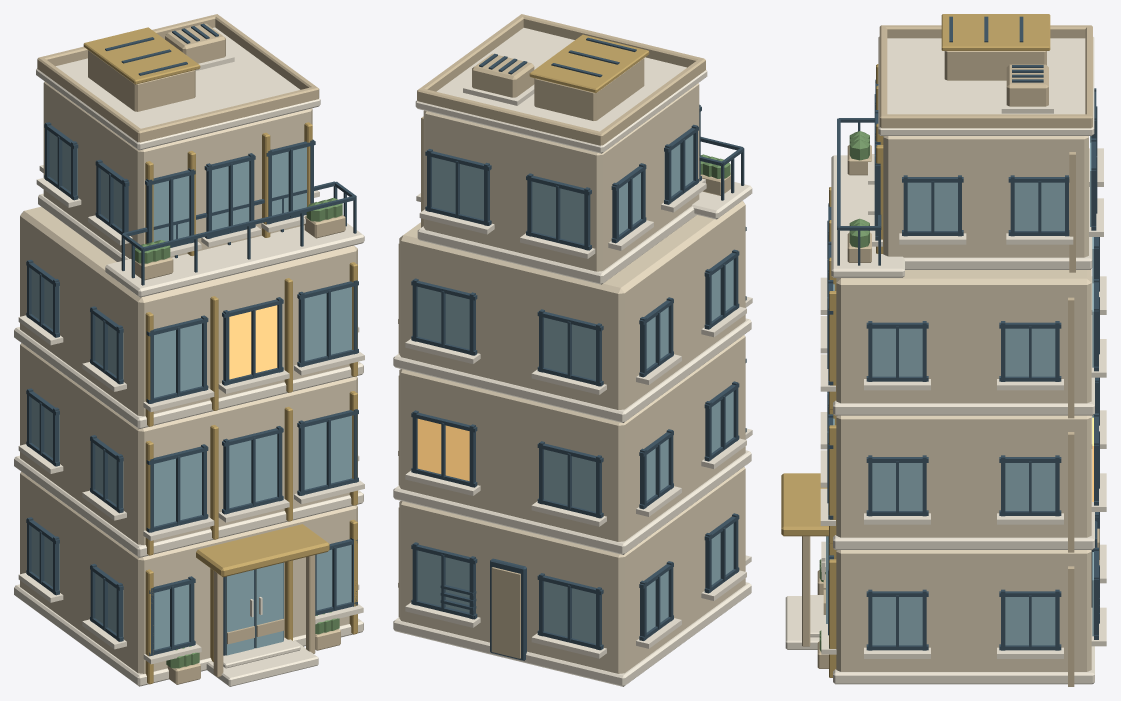
Rendered from office-l04.glb.
3 renders of one model, left to right at view 1: azimuth 30°, elevation 25°; view 2: azimuth 150°, elevation 25°; view 3: azimuth 270°, elevation 25°, orthographic. The views are drawn at different scales.
Parts seen in each view (by area): view 1: office_L04; view 2: office_L04; view 3: office_L04.
Boxes of the visible parts, x1,y1,x2,y2 form: office_L04: (14,14,364,686); office_L04: (393,14,752,686); office_L04: (781,14,1106,686).
Size of the model in its own units: 4.62 by 10.06 by 5.09.
